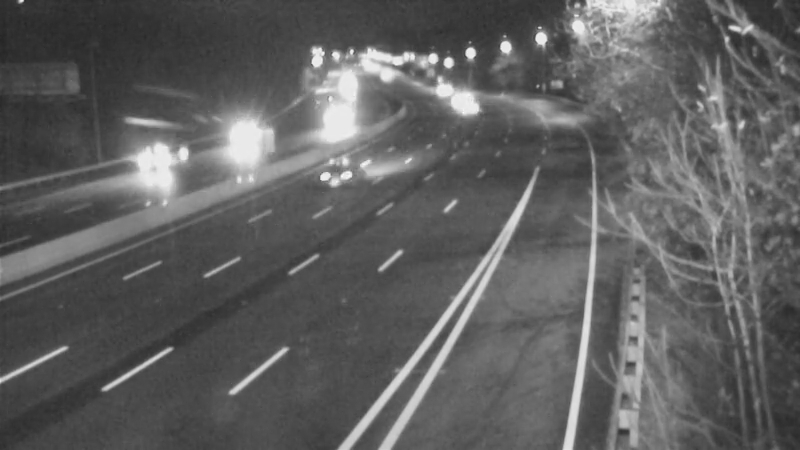vehicle: (303, 136, 383, 216), (128, 122, 208, 202), (413, 65, 463, 115), (436, 77, 486, 127), (444, 86, 494, 136), (217, 111, 267, 161), (318, 100, 368, 150)
